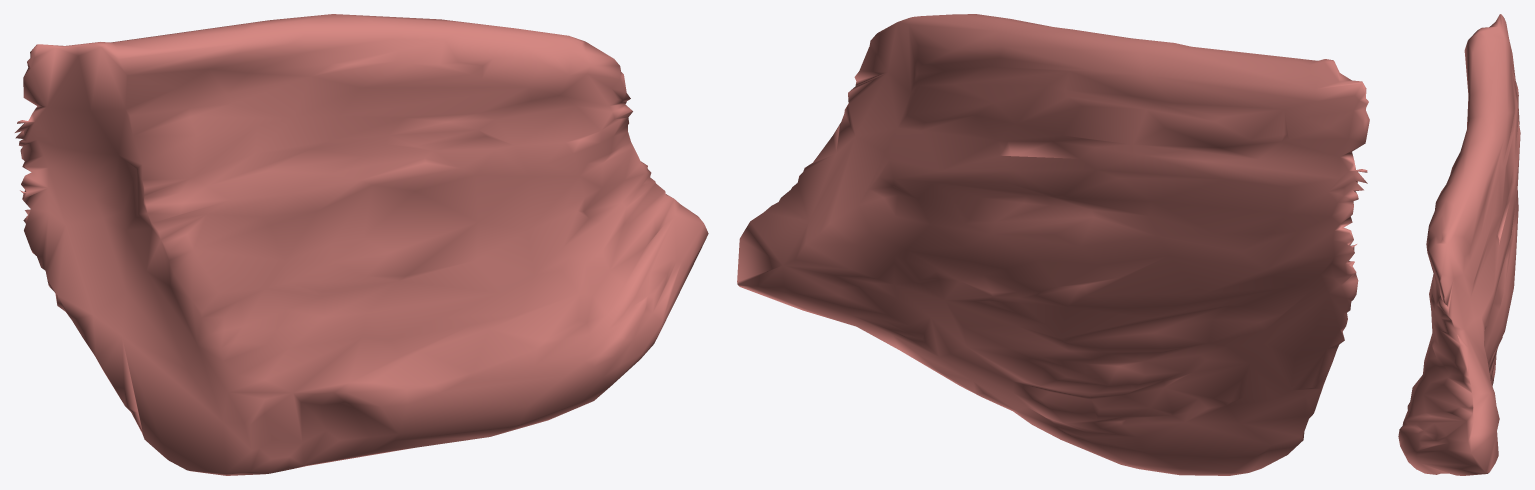
3 views of the same model, side by side, from view 1: azimuth 30°, elevation 25°; view 2: azimuth 150°, elevation 25°; view 3: azimuth 270°, elevation 25° (orthographic). The views are drawn at different scales.
Parts seen in each view (by area): view 1: ZA_246a530dacf9b6d5; view 2: ZA_246a530dacf9b6d5; view 3: ZA_246a530dacf9b6d5.
Part boxes in pixels (<box>): ZA_246a530dacf9b6d5: <box>15,14,708,475</box>; ZA_246a530dacf9b6d5: <box>737,14,1369,475</box>; ZA_246a530dacf9b6d5: <box>1398,14,1520,475</box>.
Size of the model in its own units: 0.0685 by 0.0457 by 0.0161.
